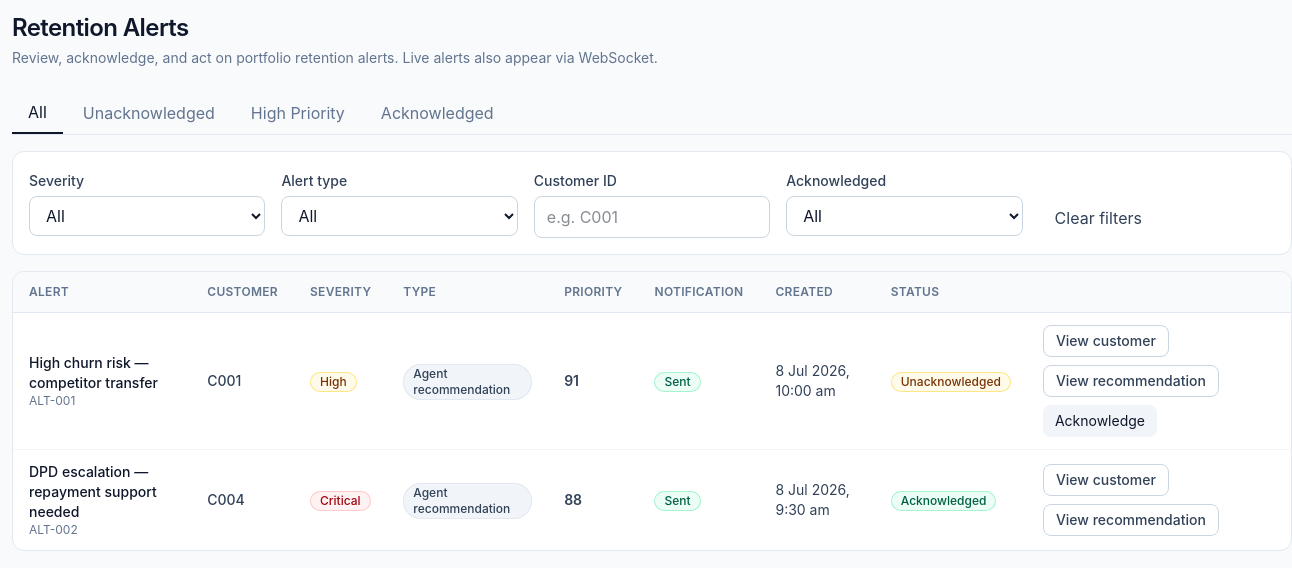
Test: Alerts page › filters unacknowledged tab
What coordinates should you click on to do the following:
click the tab "Unacknowledged"
I would click on:
 (149, 113)
Its box is [67,92,231,134].
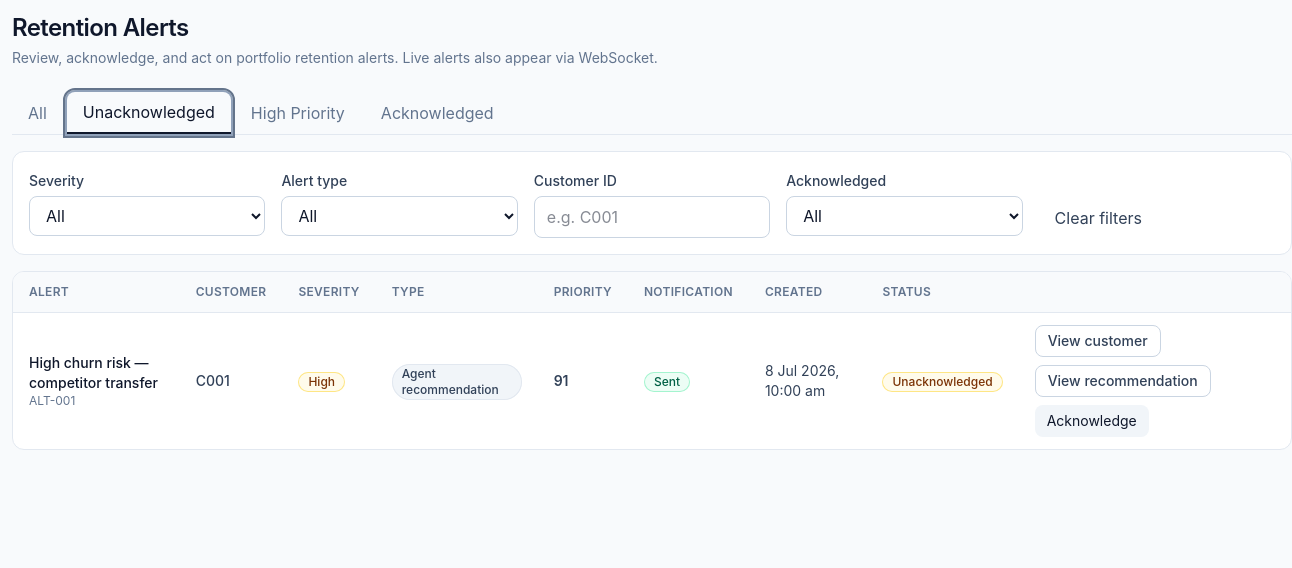
Check: the text "High churn risk — competitor transfer" is shown, box [29,353,164,393]
Check: the text "DPD escalation — repayment support needed" is gone
